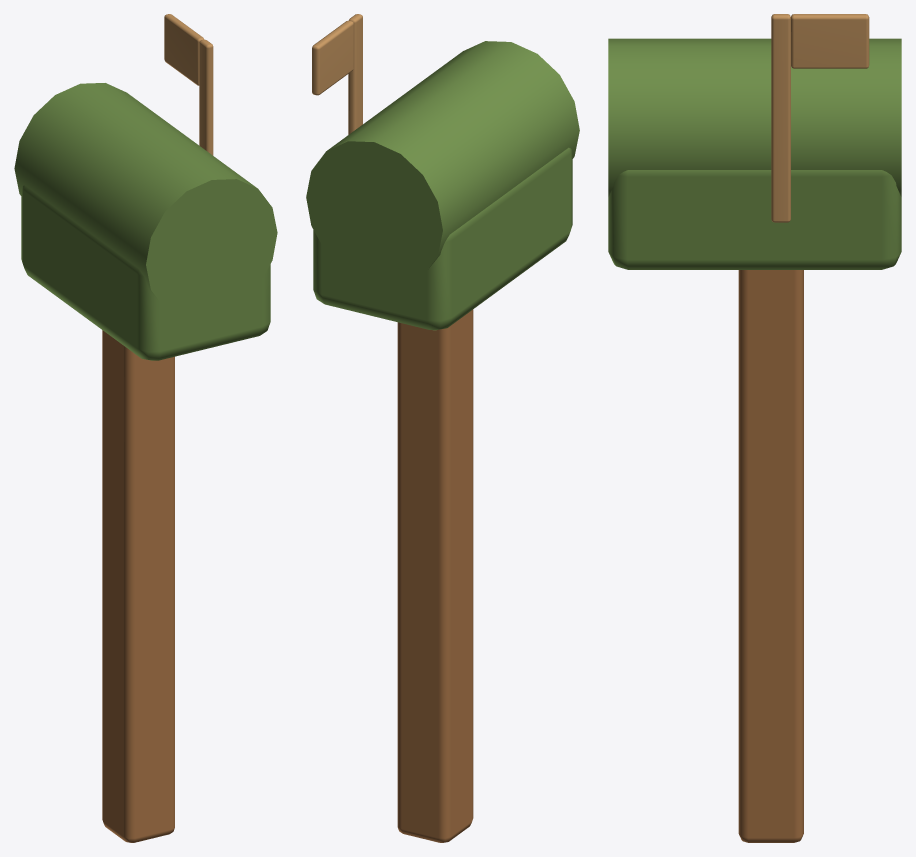
File: mailbox.glb
3 renders of one model, left to right at view 1: azimuth 30°, elevation 25°; view 2: azimuth 150°, elevation 25°; view 3: azimuth 270°, elevation 25°, orthographic. The views are drawn at different scales.
Parts seen in each view (by area): view 1: mailbox; view 2: mailbox; view 3: mailbox.
Part boxes in pixels (x1,y1,x2,y2): mailbox: (14,14,277,842); mailbox: (306,14,579,842); mailbox: (608,14,901,842).
Bounding box in the file's own units: 0.28 × 1.45 × 0.45.
